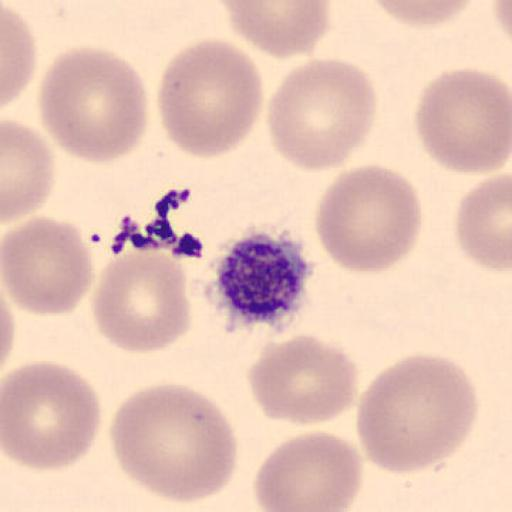Platelet: (206, 226, 315, 335)
RBC: (108, 381, 240, 505), (355, 352, 480, 475), (155, 36, 265, 160), (37, 44, 149, 165), (265, 57, 378, 173), (313, 162, 424, 274), (2, 360, 103, 472), (413, 66, 511, 176), (90, 250, 192, 355), (246, 334, 360, 426), (2, 215, 95, 318), (251, 430, 363, 512), (217, 0, 332, 61), (1, 116, 57, 225), (453, 172, 512, 272), (2, 1, 38, 110), (369, 0, 476, 28), (0, 288, 18, 370), (492, 0, 512, 41)
